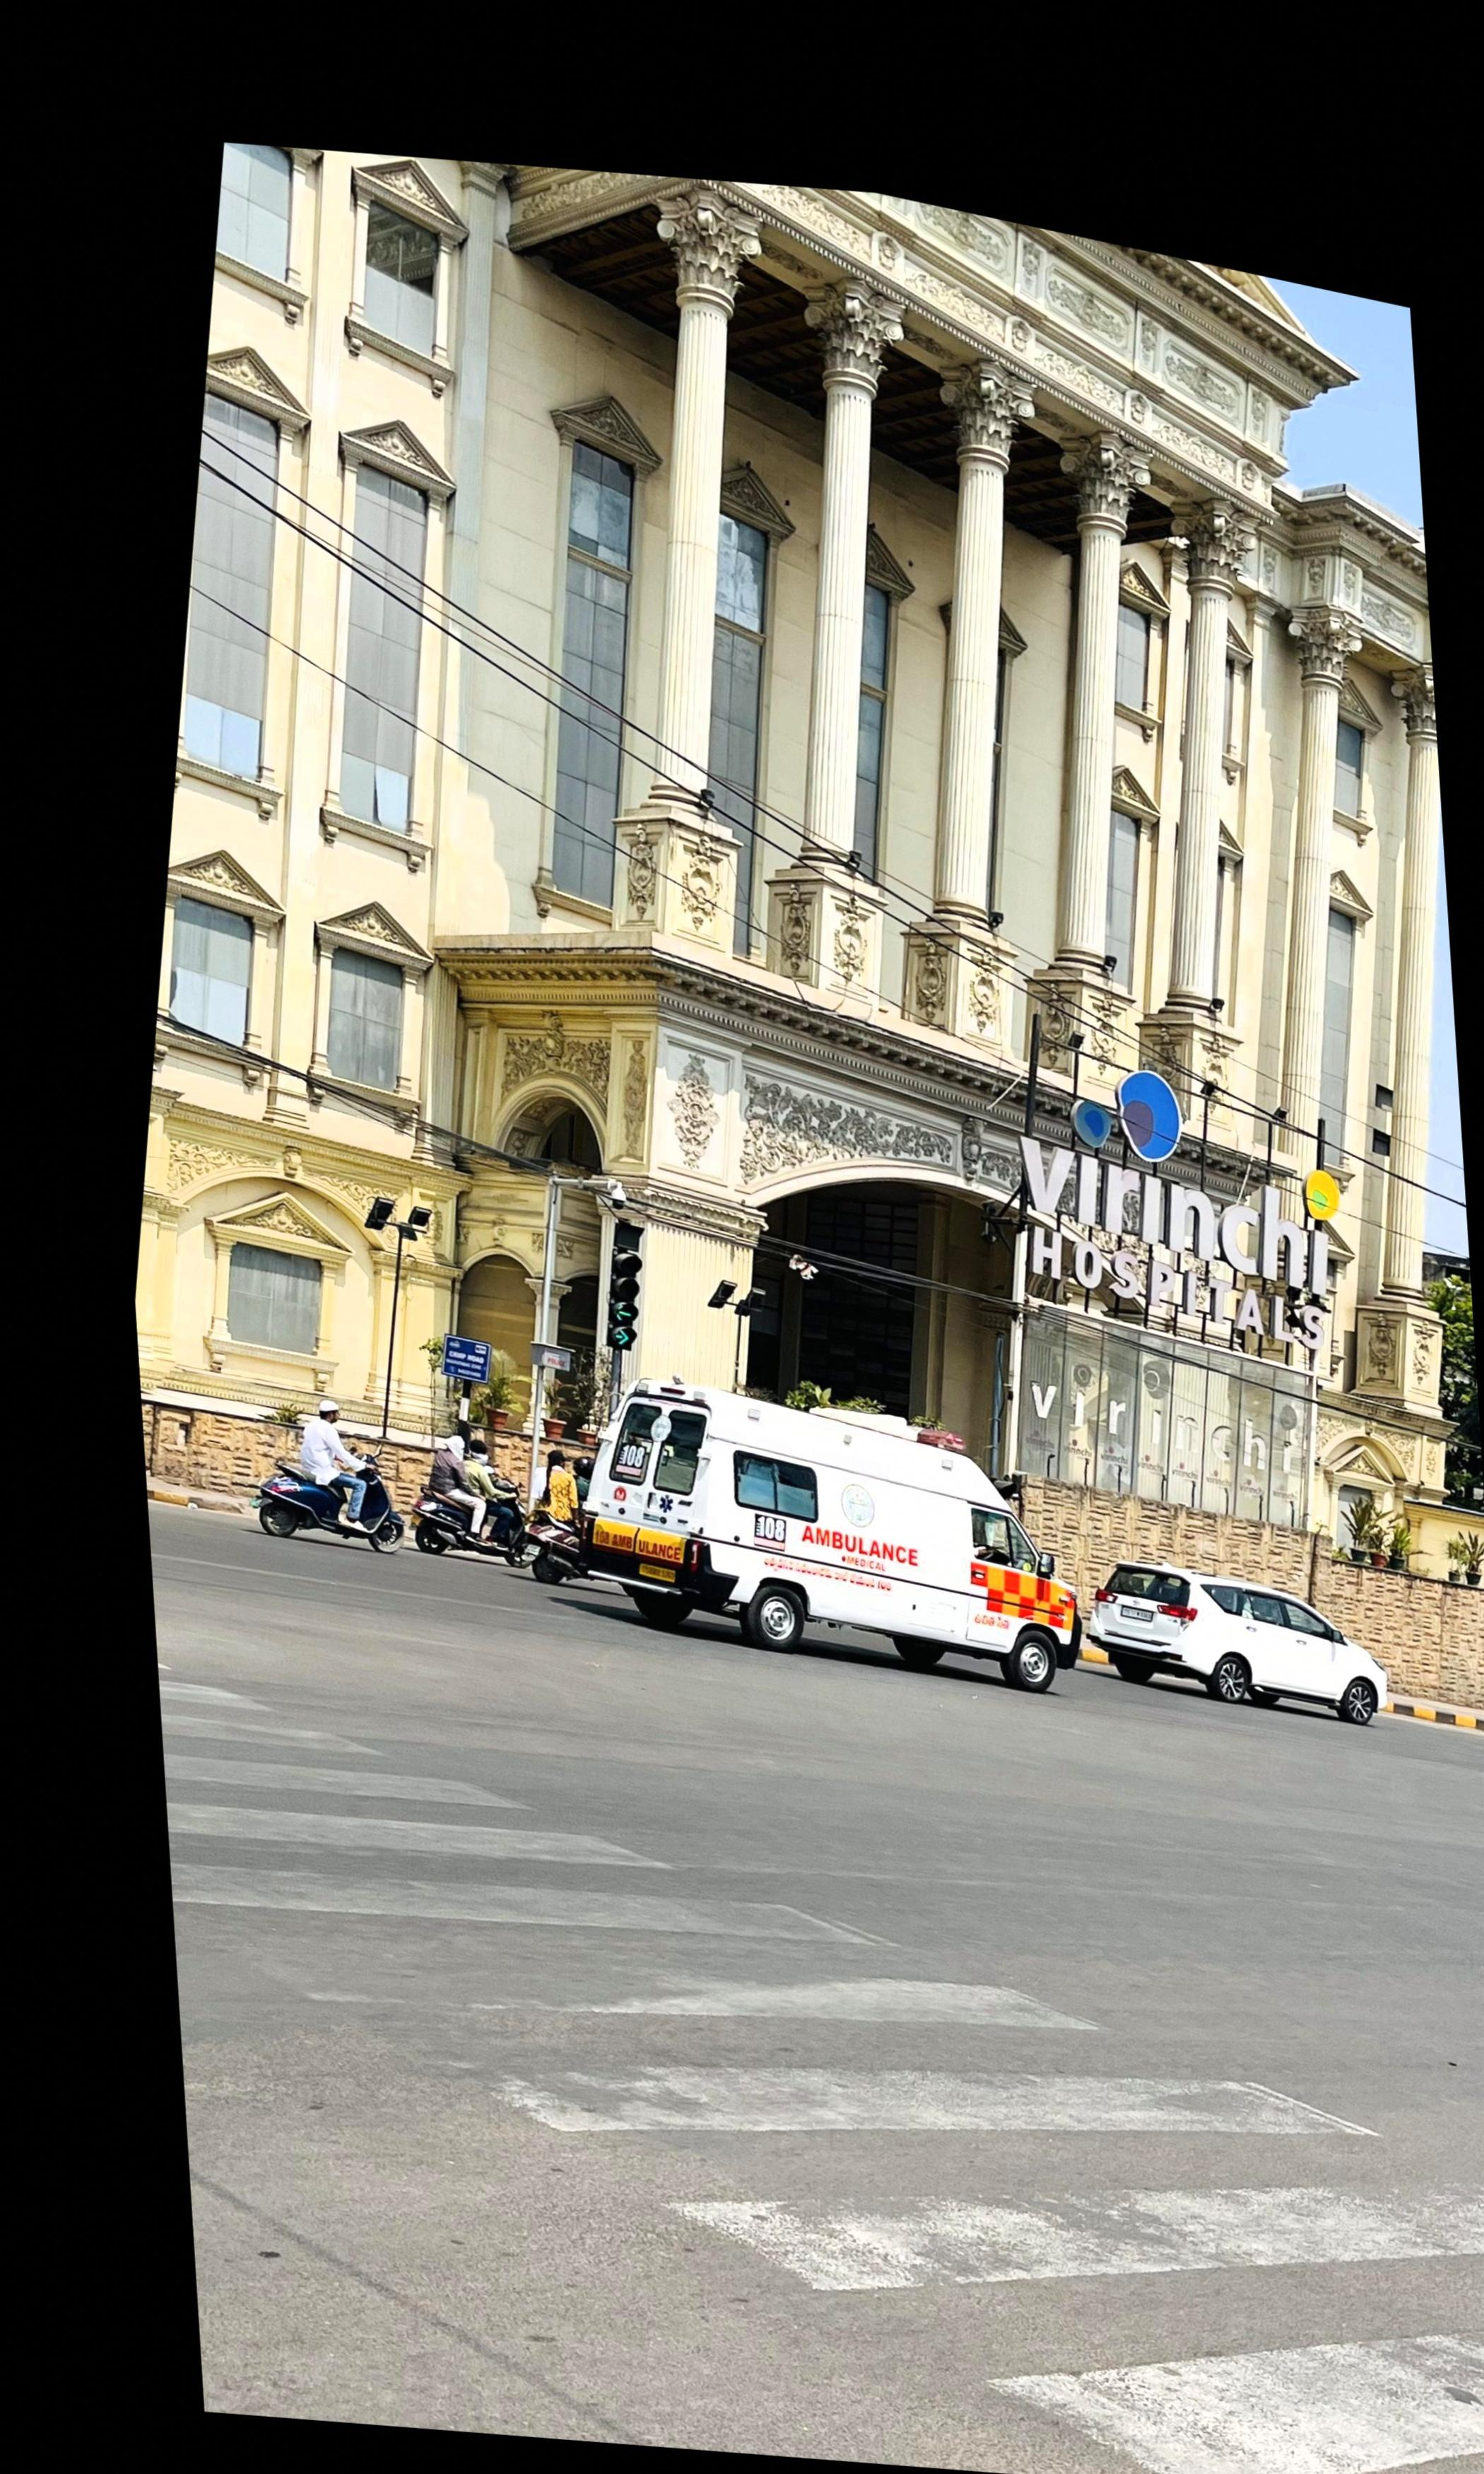ambulance: (601, 1385, 1085, 1696)
